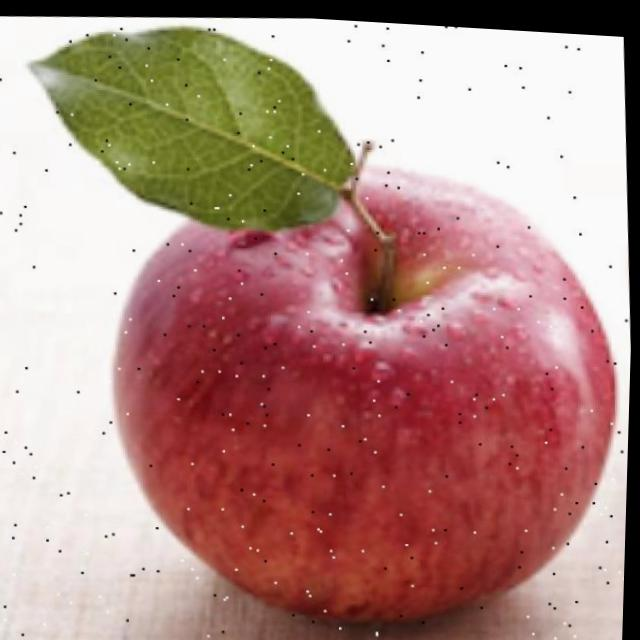Apple: (97, 128, 637, 640)
